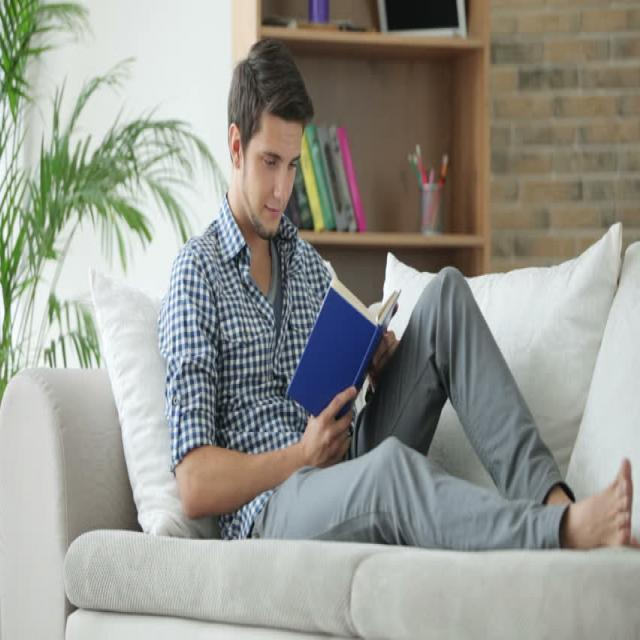sitting: (155, 29, 639, 559)
